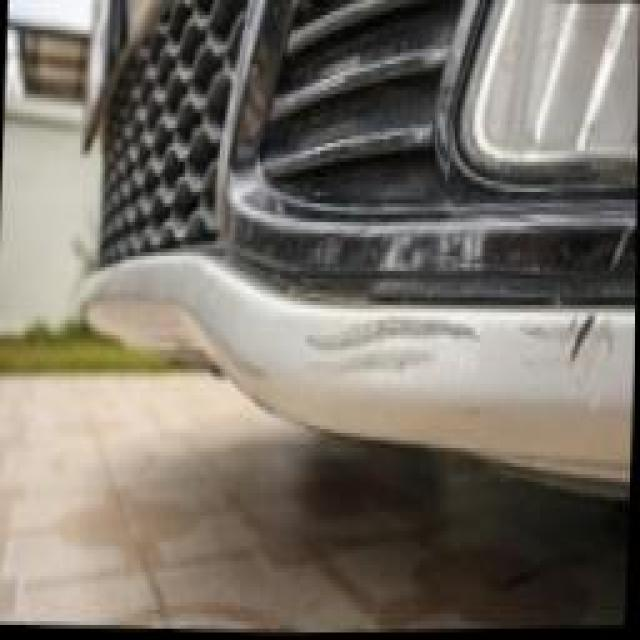Bumper: (248, 181, 638, 459)
